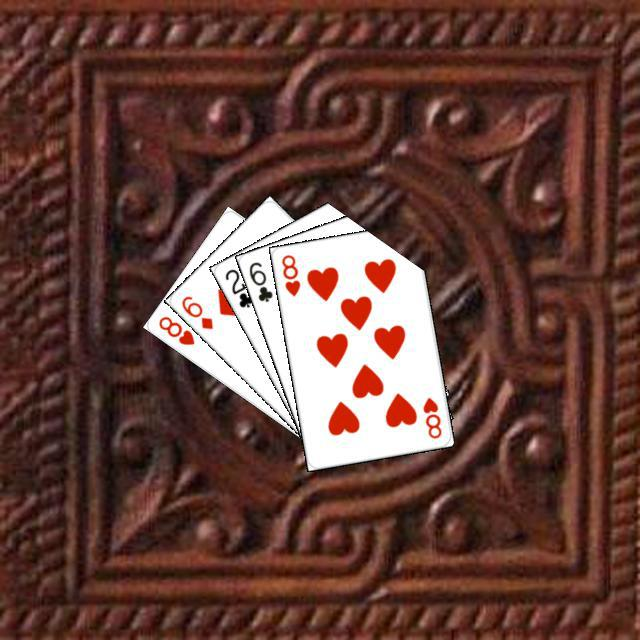2c: (220, 264, 255, 309)
6c: (244, 257, 274, 304)
6d: (176, 291, 215, 331)
8h: (153, 311, 196, 347), (277, 250, 302, 298), (418, 392, 443, 440)
